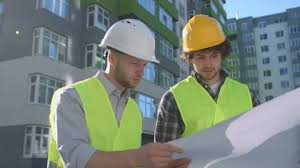Person_wearing_helmet: (172, 8, 237, 60), (98, 15, 164, 65)
